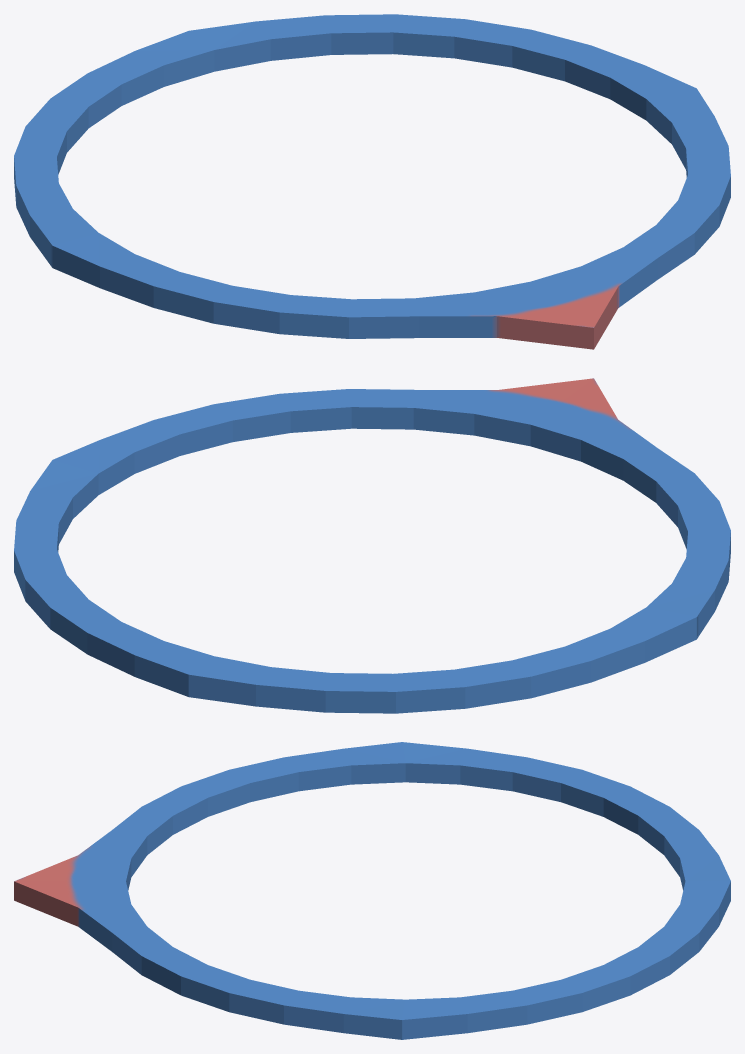
Rendered from searchRing.obj.
3 renders of one model, top to bottom at view 1: azimuth 30°, elevation 25°; view 2: azimuth 150°, elevation 25°; view 3: azimuth 270°, elevation 25°, orthographic. The views are drawn at different scales.
Parts seen in each view (by area): view 1: 円柱; view 2: 円柱; view 3: 円柱.
Boxes of the visible parts, box(x1,y1,x2,y2) form: 円柱: box(14, 14, 730, 349); 円柱: box(14, 378, 730, 713); 円柱: box(14, 742, 730, 1039).
Bounding box in the file's own units: 2.35 × 0.0785 × 2.56.
Materials: 1 (1 with a texture image).
